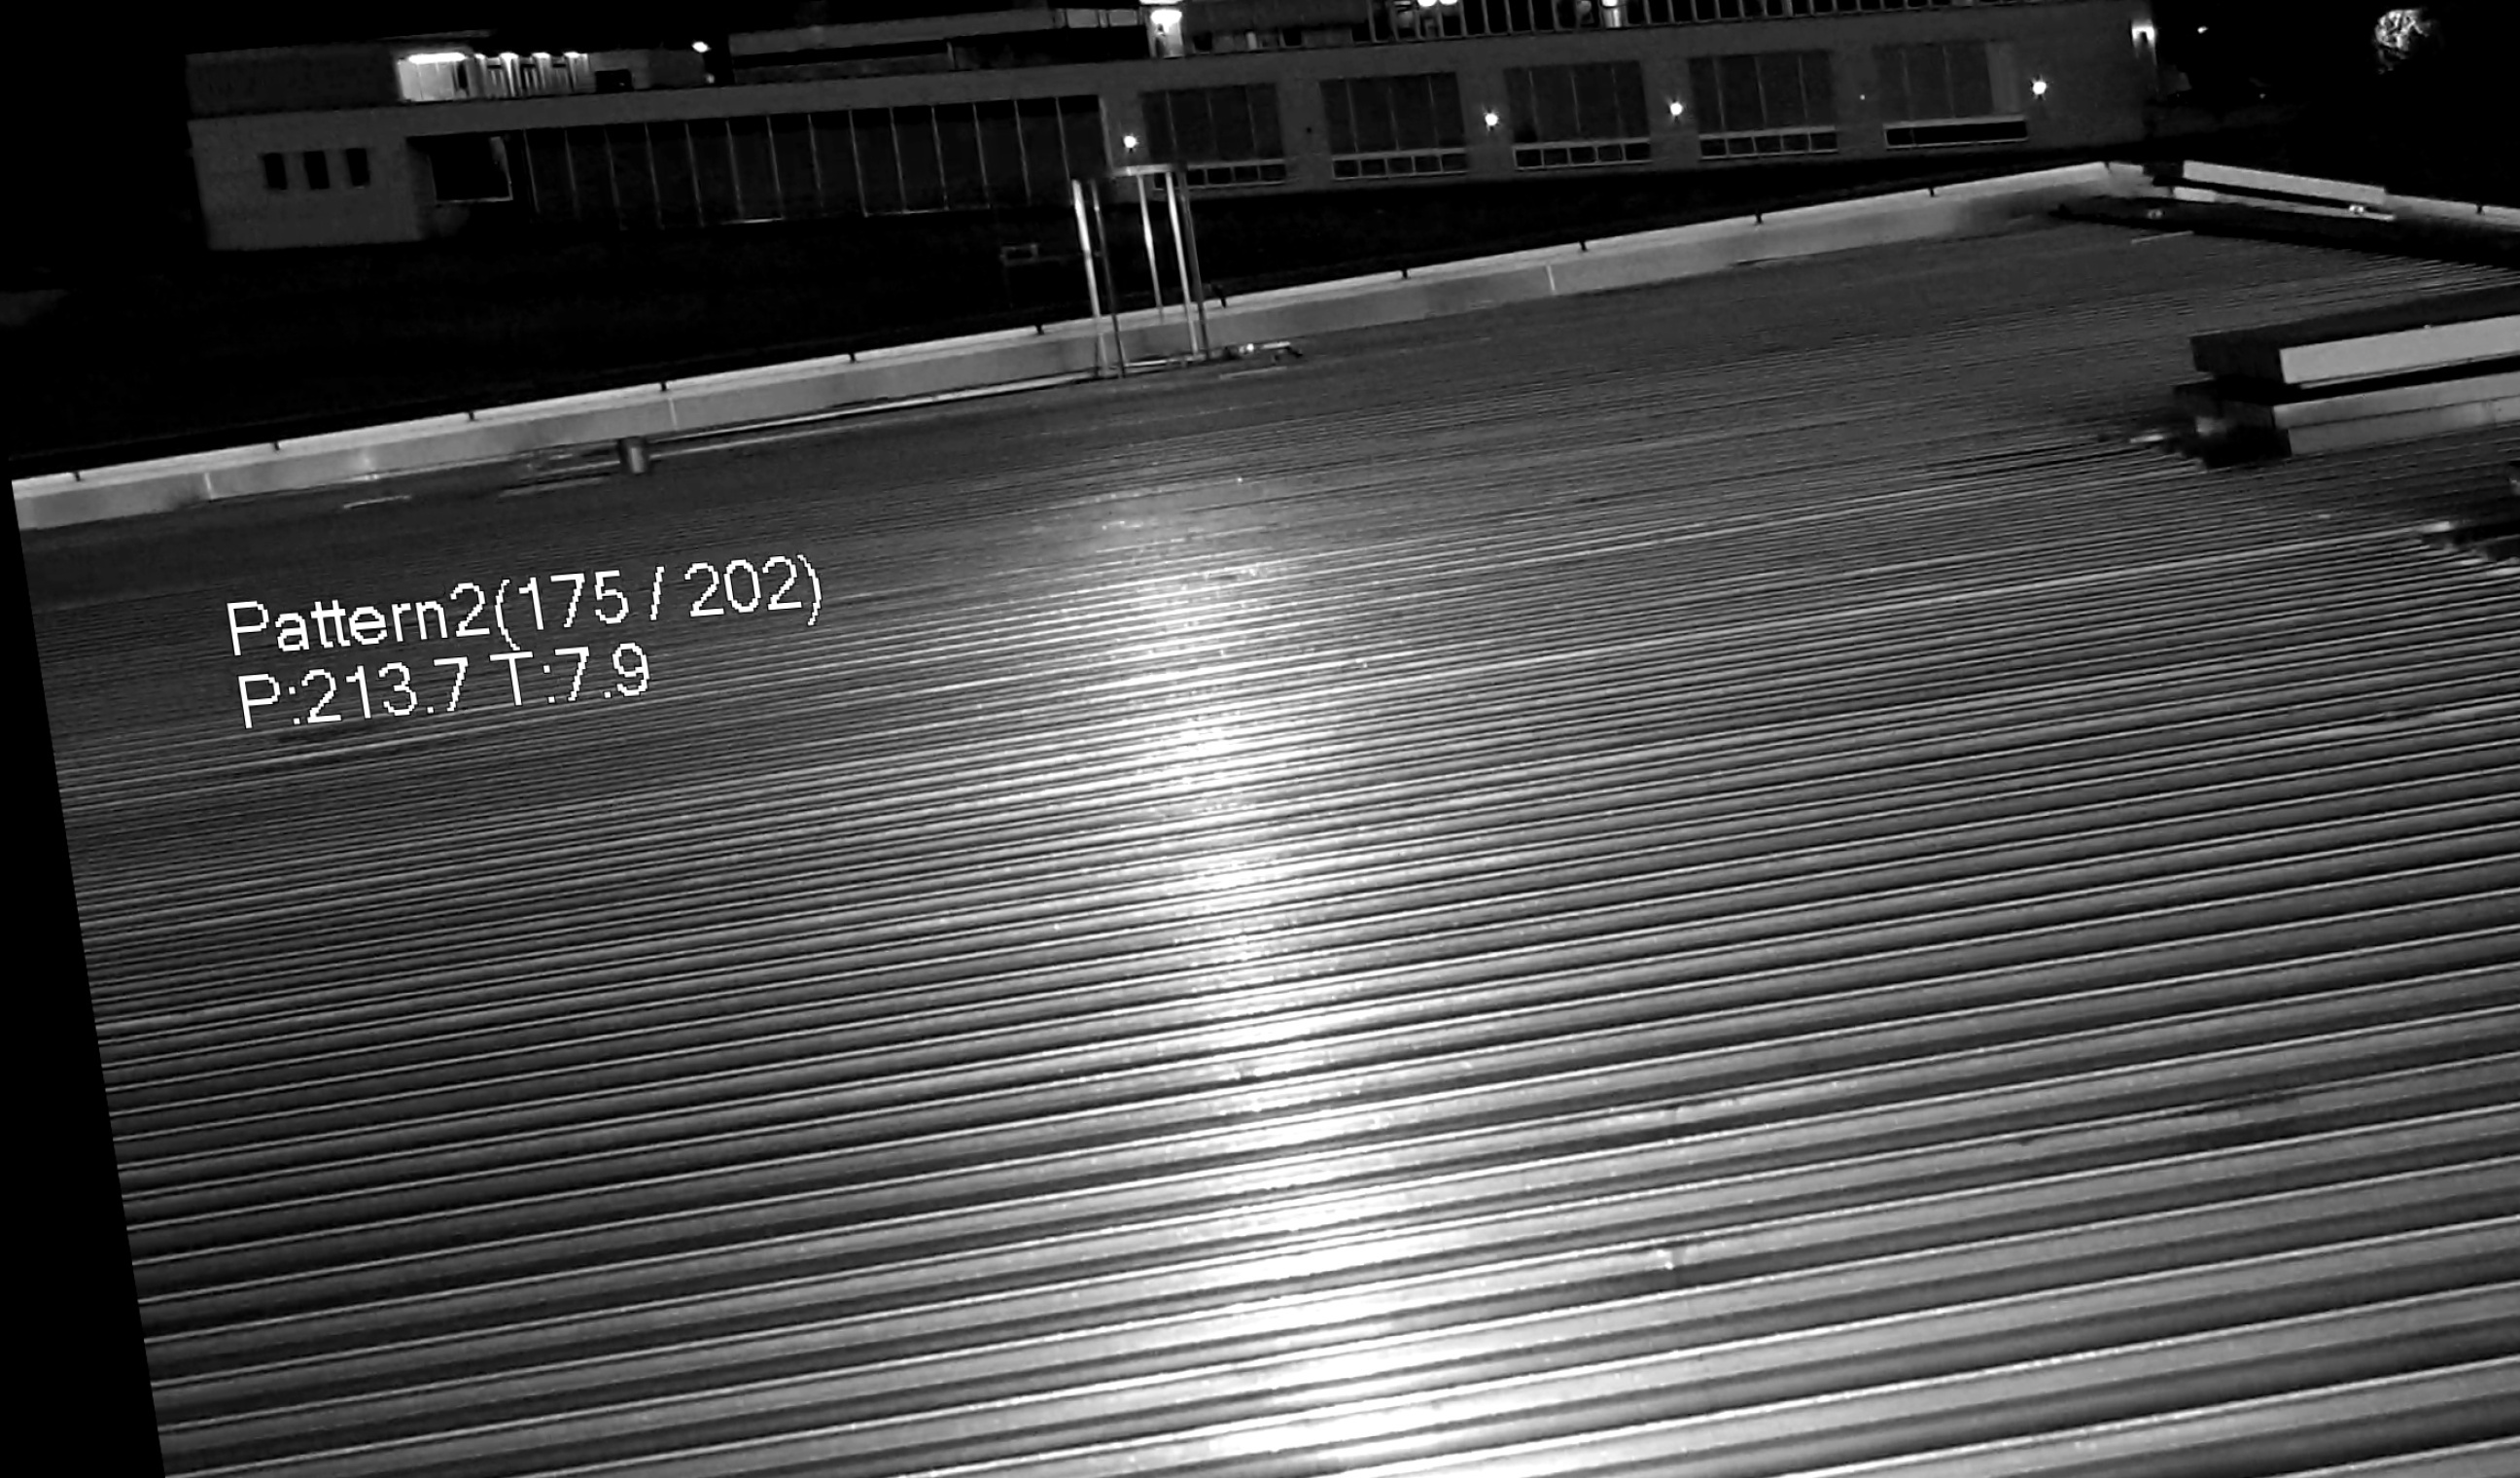Other: (2483, 410, 2520, 598)
